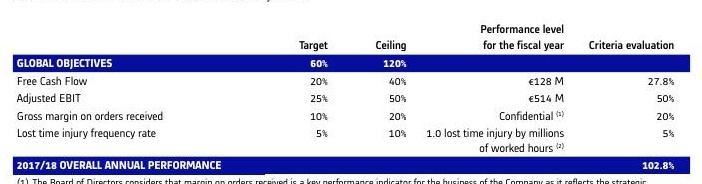table: (0, 0, 702, 184)
